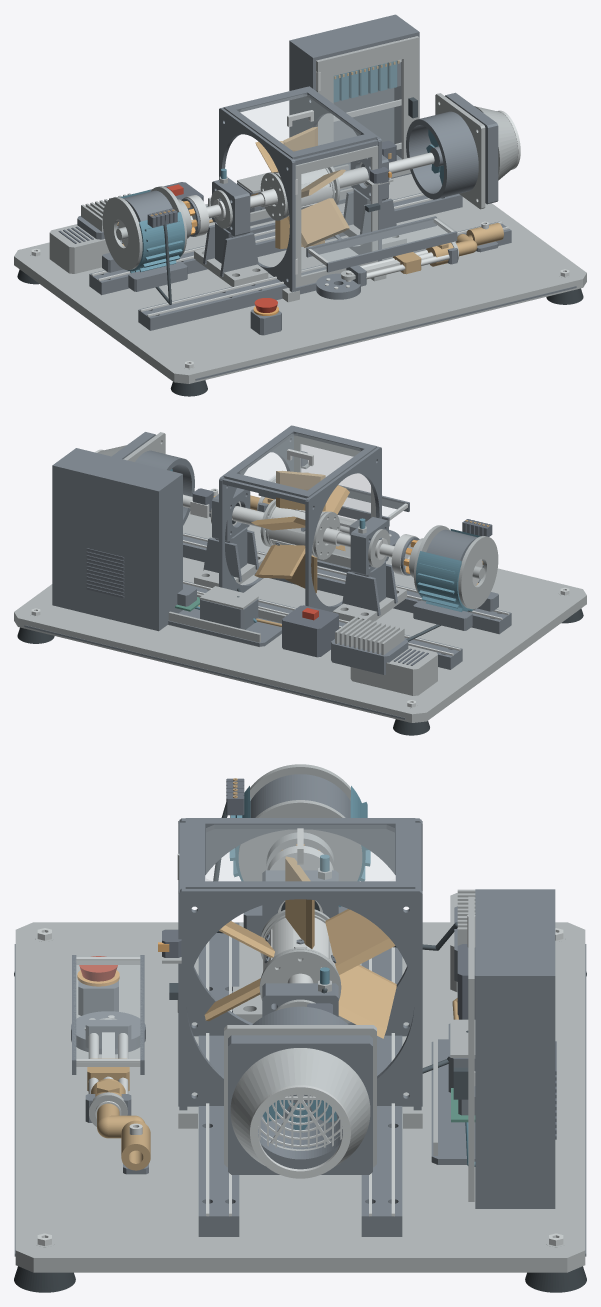
The picture shows the model from 3 angles, top to bottom: view 1: azimuth 30°, elevation 25°; view 2: azimuth 150°, elevation 25°; view 3: azimuth 270°, elevation 25°; orthographic projection. The views are drawn at different scales.
Parts seen in each view (by area): view 1: RE-001:1, RE-042:1, RE-018:1, RE-041:1, RE-017:1, RE-014:1, RE-021:1, RE-016:1, RE-048:1, RE-011:1, RE-002:1, RE-002:2 (+18 smaller); view 2: RE-001:1, RE-041:1, RE-021:1, RE-017:1, RE-016:1, RE-011:1, RE-018:1, RE-011:2, RE-039:1, RE-002:1, RE-044:1, RE-040:1 (+22 smaller); view 3: RE-001:1, RE-041:1, RE-016:1, RE-017:1, RE-049:1, RE-015:1, RE-048:1, RE-002:1, RE-021:1, RE-014:1, RE-002:2, RE-035:1 (+28 smaller).
Boxes of the visible parts, x1,y1,x2,y2 form: RE-001:1: [14, 174, 586, 383]; RE-042:1: [316, 36, 419, 189]; RE-018:1: [295, 145, 380, 287]; RE-041:1: [289, 14, 419, 178]; RE-017:1: [223, 86, 377, 159]; RE-014:1: [406, 93, 485, 209]; RE-021:1: [102, 186, 187, 291]; RE-016:1: [219, 86, 386, 302]; RE-048:1: [306, 216, 457, 272]; RE-011:1: [194, 178, 268, 286]; RE-002:1: [138, 221, 511, 330]; RE-002:2: [89, 193, 462, 295]; RE-001:1: [14, 511, 586, 722]; RE-041:1: [52, 448, 182, 631]; RE-021:1: [413, 525, 498, 630]; RE-017:1: [223, 425, 377, 498]; RE-016:1: [219, 425, 381, 611]; RE-011:1: [332, 517, 406, 622]; RE-018:1: [294, 435, 375, 567]; RE-011:2: [194, 488, 265, 587]; RE-039:1: [331, 617, 408, 674]; RE-002:1: [183, 533, 511, 634]; RE-044:1: [350, 645, 437, 695]; RE-040:1: [282, 605, 338, 657]; RE-001:1: [14, 922, 586, 1272]; RE-041:1: [475, 889, 556, 1208]; RE-016:1: [178, 818, 422, 1128]; RE-017:1: [185, 818, 415, 888]; RE-049:1: [230, 1048, 370, 1178]; RE-015:1: [228, 1035, 372, 1174]; RE-048:1: [72, 955, 144, 1074]; RE-002:1: [198, 920, 239, 1236]; RE-021:1: [229, 764, 370, 936]; RE-014:1: [224, 1006, 376, 1167]; RE-002:2: [361, 947, 402, 1236]; RE-035:1: [431, 1029, 475, 1164].
Bounding box in the file's own units: 0.488 × 0.197 × 0.352.
